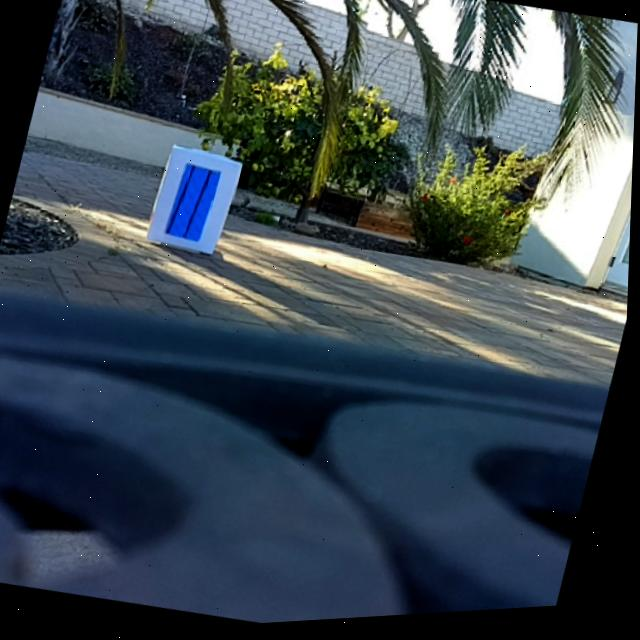led: (163, 160, 227, 249)
